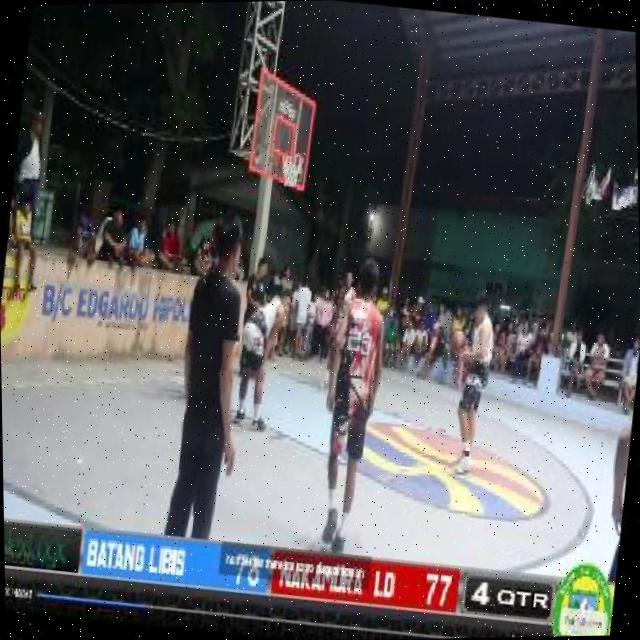ball: (447, 329, 467, 358)
hoop: (276, 149, 309, 164)
